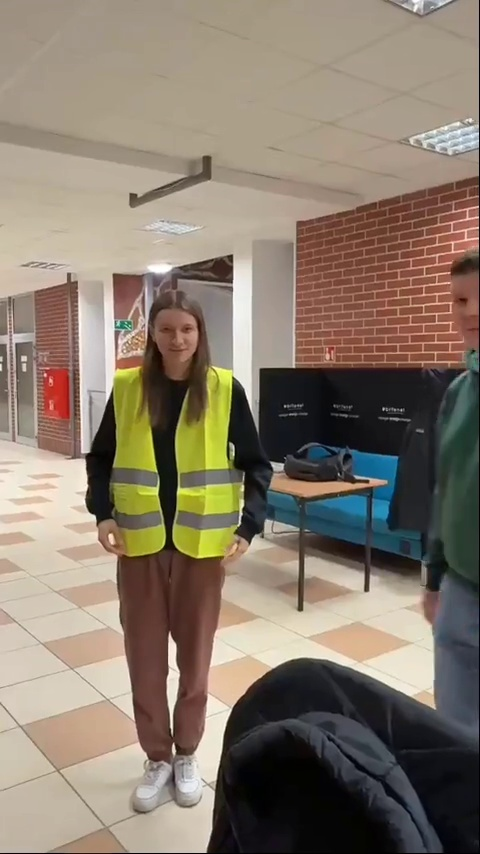no vest: (408, 250, 480, 737)
vest: (87, 283, 267, 806)
